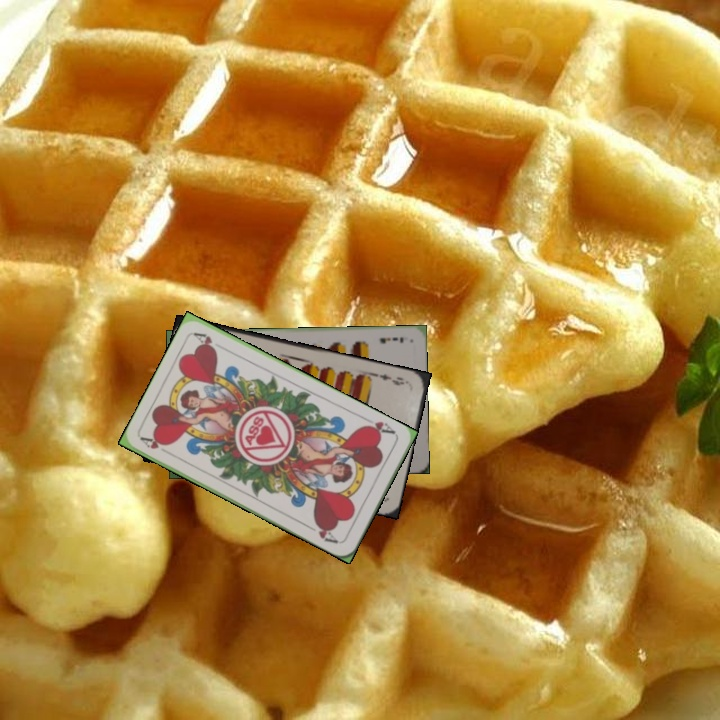E7: (376, 333, 406, 346)
E9: (372, 370, 411, 388)
HA: (359, 414, 398, 438), (137, 433, 170, 452)
